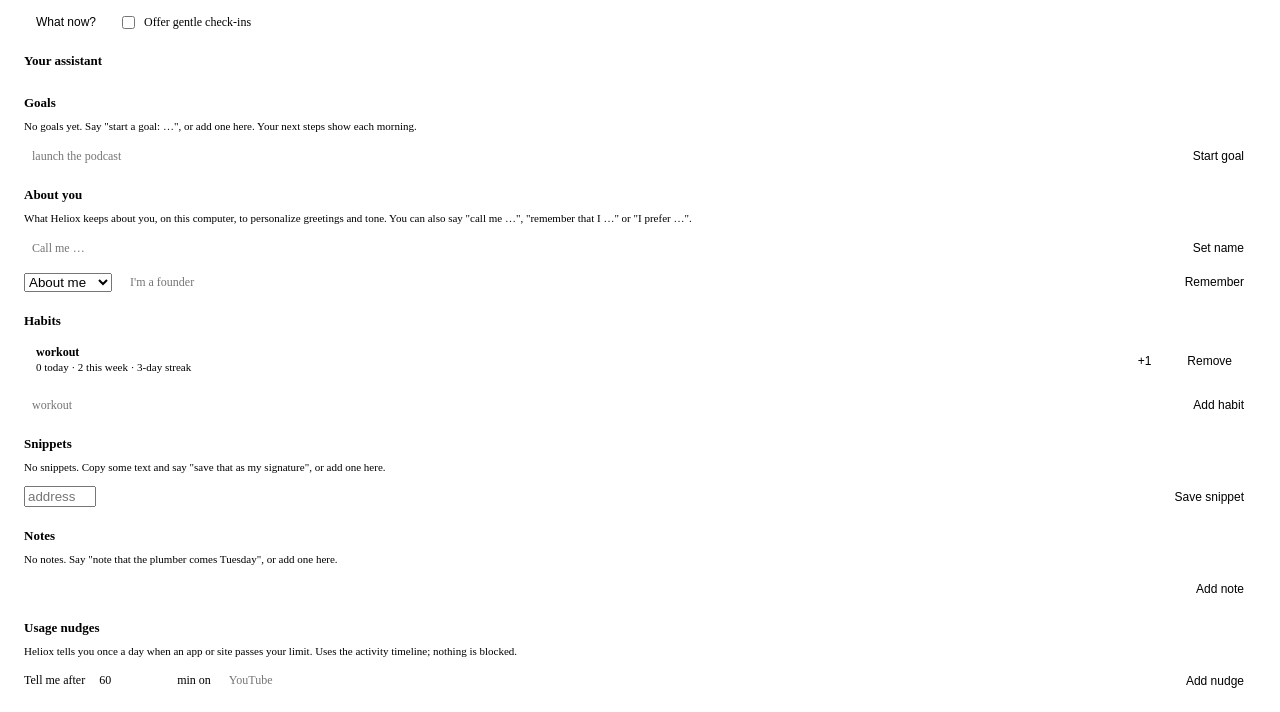
Test: TodayPanel › logs habits and shows focus totals
This screenshot has width=1280, height=712.
(page scrolled)
Expected: the text "0 today · 2 this week · 3-day streak" is shown, top-left (36, 361), bottom-right (191, 373)
What coordinates should you click on to do the following:
click the button named "Log workout"
I would click on:
 (1144, 360)
Its box is top-left (1126, 348), bottom-right (1163, 374).
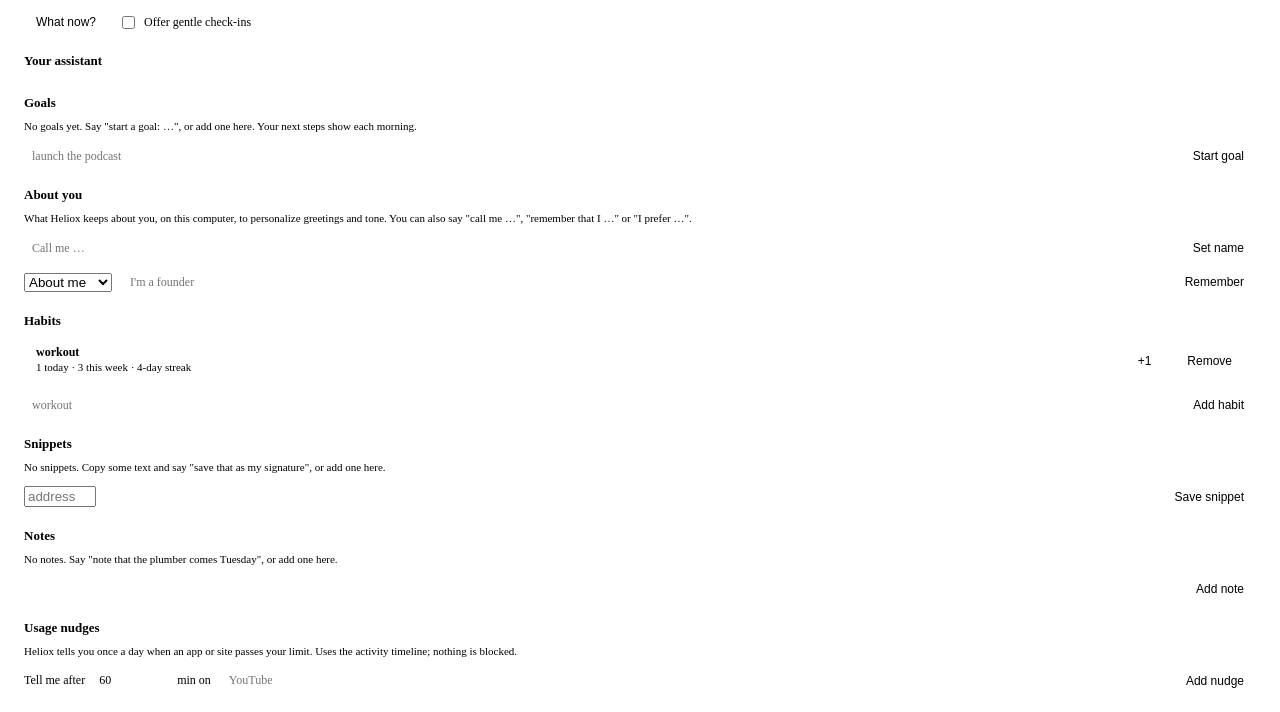
Expected: the text "1 today · 3 this week · 4-day streak" is shown, top-left (36, 361), bottom-right (191, 373)
